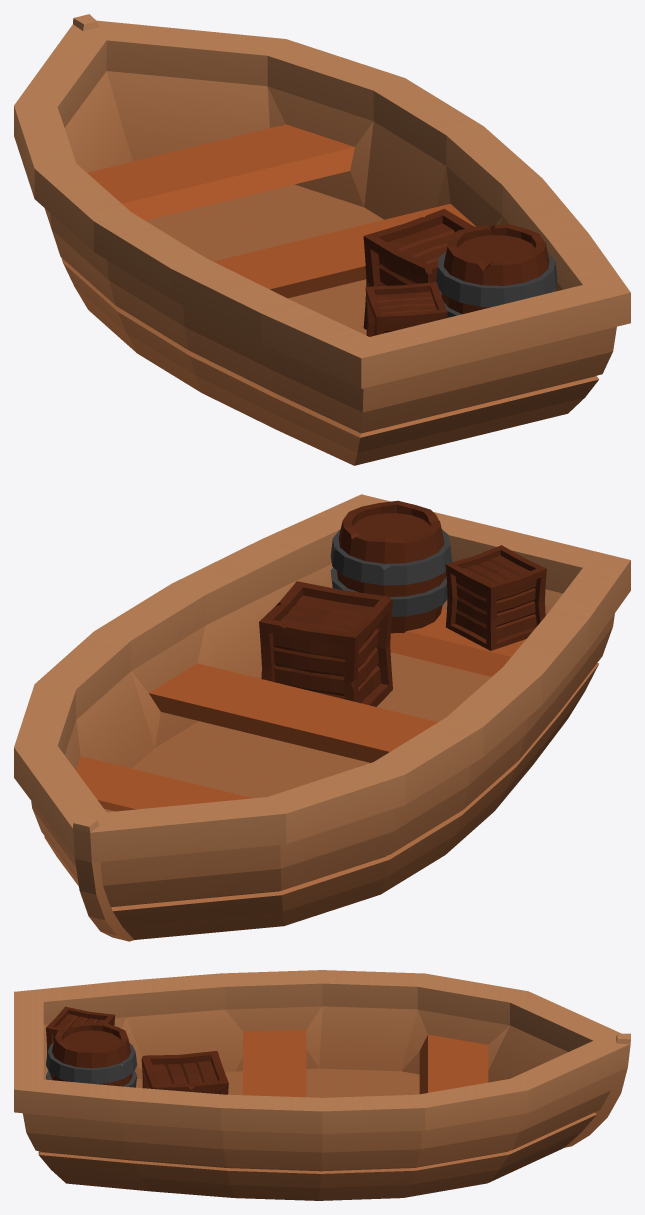
The model's file is boat_storage.obj.
The picture shows the model from 3 angles, top to bottom: view 1: azimuth 30°, elevation 25°; view 2: azimuth 150°, elevation 25°; view 3: azimuth 270°, elevation 25°; orthographic projection. The views are drawn at different scales.
Parts seen in each view (by area): view 1: Cube.017, Cylinder.014, Cube.027, Cube.028; view 2: Cube.017, Cube.027, Cylinder.014, Cube.028; view 3: Cube.017, Cylinder.014, Cube.027, Cube.028.
Boxes of the visible parts, x1,y1,x2,y2 form: Cube.017: [14, 14, 630, 465]; Cylinder.014: [436, 224, 557, 317]; Cube.027: [363, 209, 474, 329]; Cube.028: [365, 282, 447, 336]; Cube.017: [14, 494, 630, 941]; Cube.027: [259, 581, 392, 706]; Cylinder.014: [330, 500, 452, 633]; Cube.028: [445, 545, 546, 650]; Cube.017: [14, 970, 630, 1200]; Cylinder.014: [46, 1022, 136, 1087]; Cube.027: [141, 1051, 228, 1094]; Cube.028: [46, 1006, 115, 1053].
Bounding box in the file's own units: 6.14 × 2.58 × 11.32.
